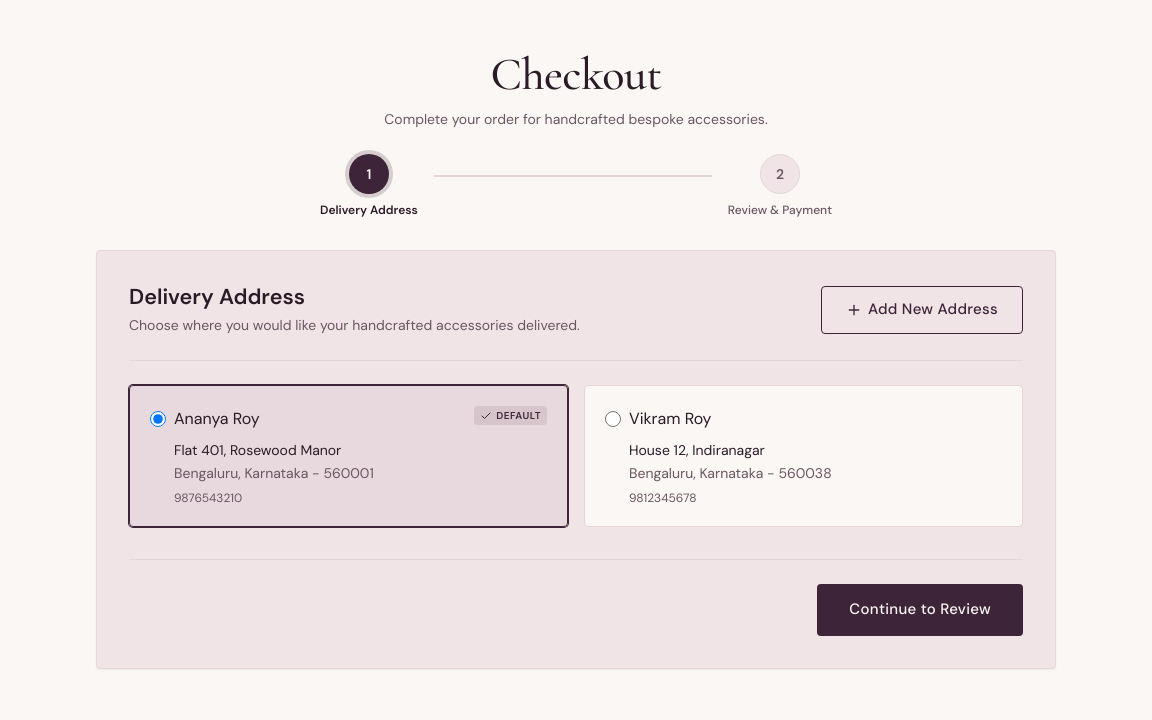
Test: FE-29: Checkout flow › Address Selection and Shared Form › allows selecting a saved address and continuing to order review
Expected: the text "Ananya Roy" is shown, [174,406,260,432]
Expected: the text "Vikram Roy" is shown, [629,406,712,432]
# Click second address radio
Click the radio button labelled "Vikram Roy" at coordinates (613, 419), box [605,411,621,427]
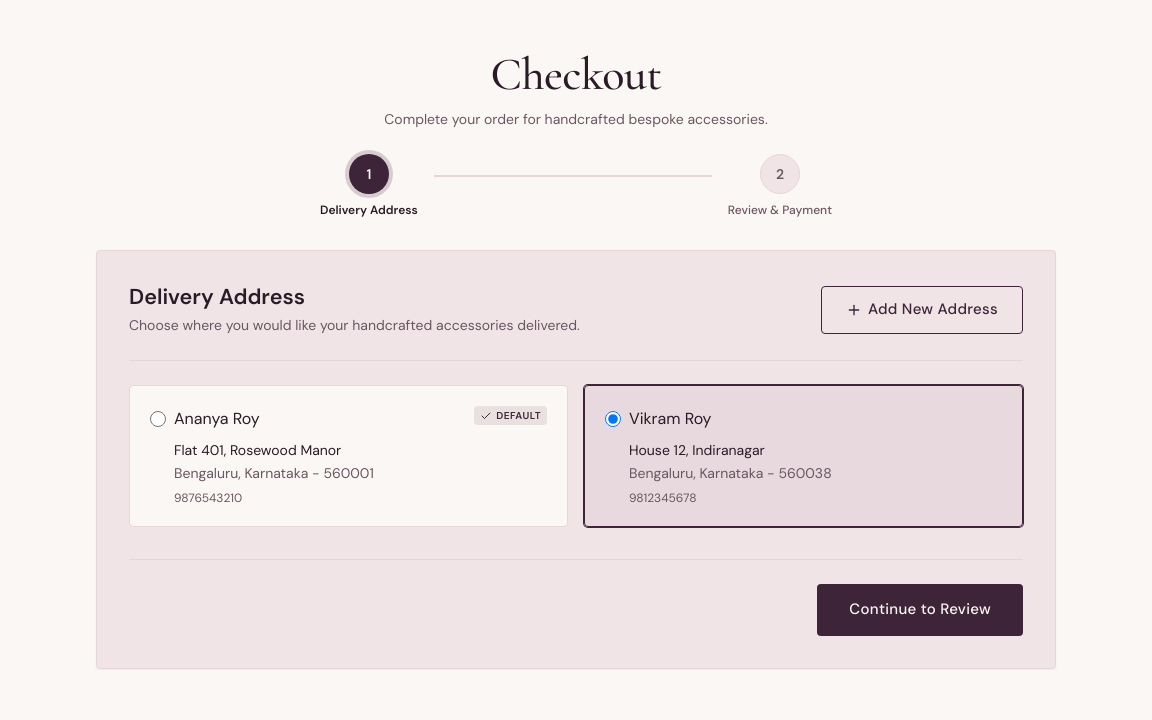
# Continue to review
Click the button with test id "continue-to-review-btn" at coordinates (920, 610), box [817,584,1023,636]
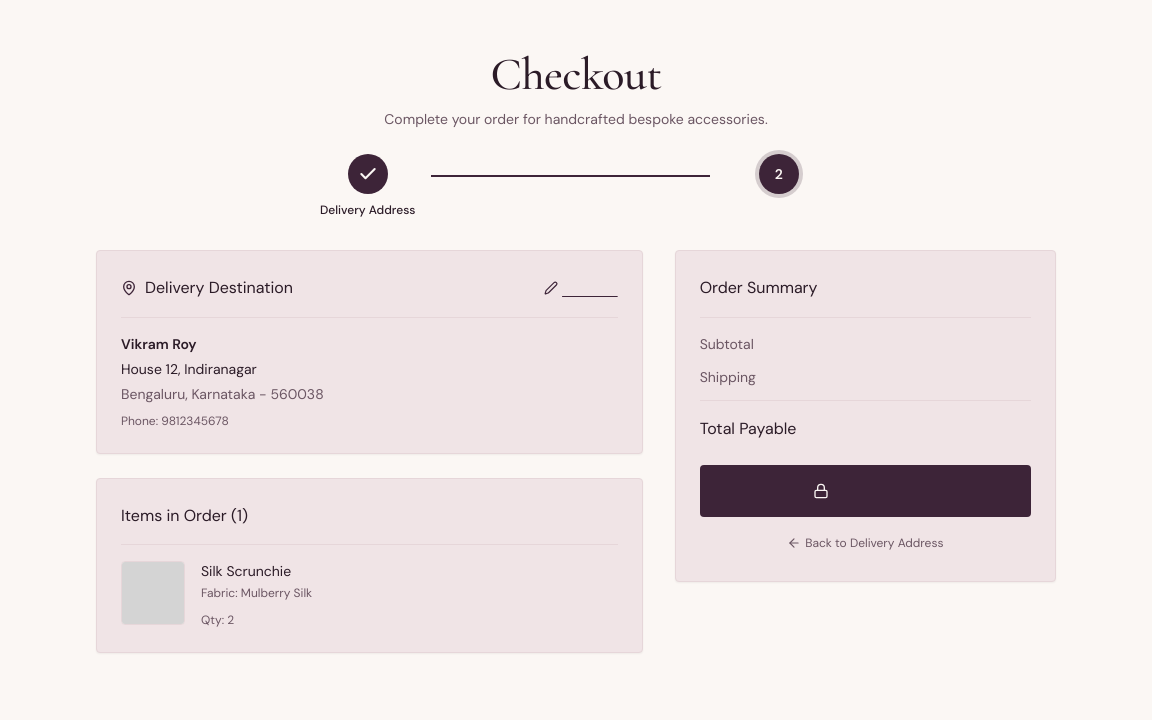
Expected: the text "House 12, Indiranagar" is shown, [121,360,257,378]
Result: the heading "Order Summary" is shown at [700,275,1031,318]
